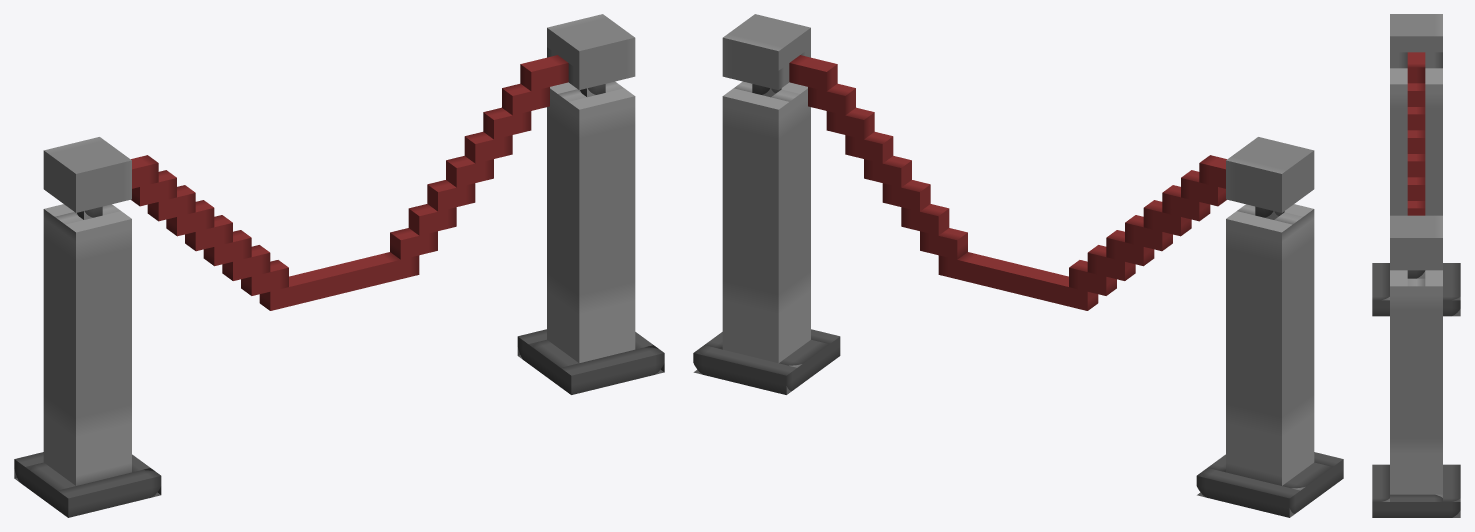
The model's file is barierka.dae.
3 views of the same model, side by side, from view 1: azimuth 30°, elevation 25°; view 2: azimuth 150°, elevation 25°; view 3: azimuth 270°, elevation 25° (orthographic). The views are drawn at different scales.
Parts seen in each view (by area): view 1: barierka; view 2: barierka; view 3: barierka.
Part boxes in pixels (x1,y1,x2,y2): barierka: [14, 14, 664, 517]; barierka: [693, 14, 1343, 517]; barierka: [1372, 14, 1460, 517].
Size of the model in its own units: 32 by 17 by 5.
Materials: 1 (1 with a texture image).
